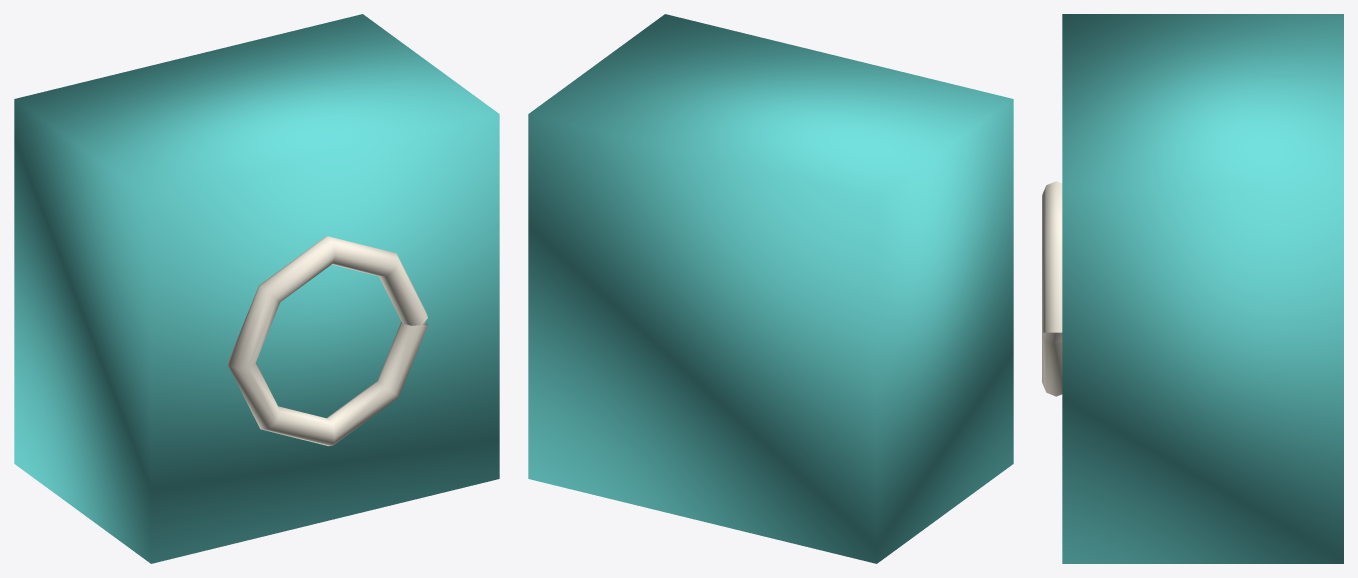
The model's file is block_teal.glb.
3 renders of one model, left to right at view 1: azimuth 30°, elevation 25°; view 2: azimuth 150°, elevation 25°; view 3: azimuth 270°, elevation 25°, orthographic. The views are drawn at different scales.
Visible parts, largest first — view 1: teal, coin_icon; view 2: teal; view 3: teal, coin_icon.
Part boxes in pixels (left/top/right/bottom): teal: left=14, top=14, right=499, bottom=563; coin_icon: left=227, top=236, right=427, bottom=445; teal: left=528, top=14, right=1013, bottom=563; teal: left=1062, top=14, right=1343, bottom=563; coin_icon: left=1042, top=181, right=1062, bottom=396.
Size of the model in its own units: 1 by 1 by 0.729.
